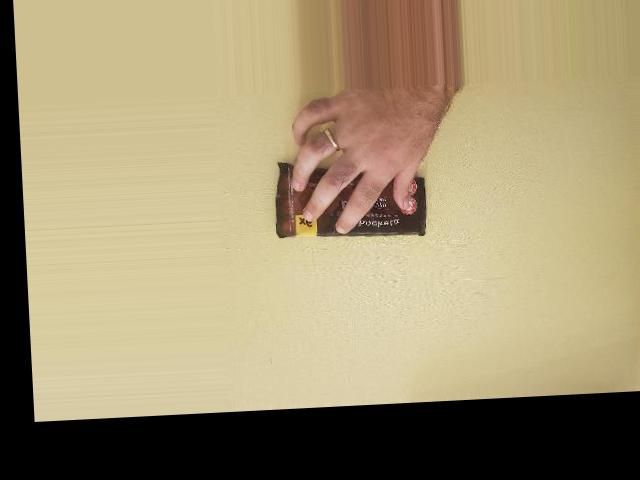chocolate: (270, 157, 433, 245)
